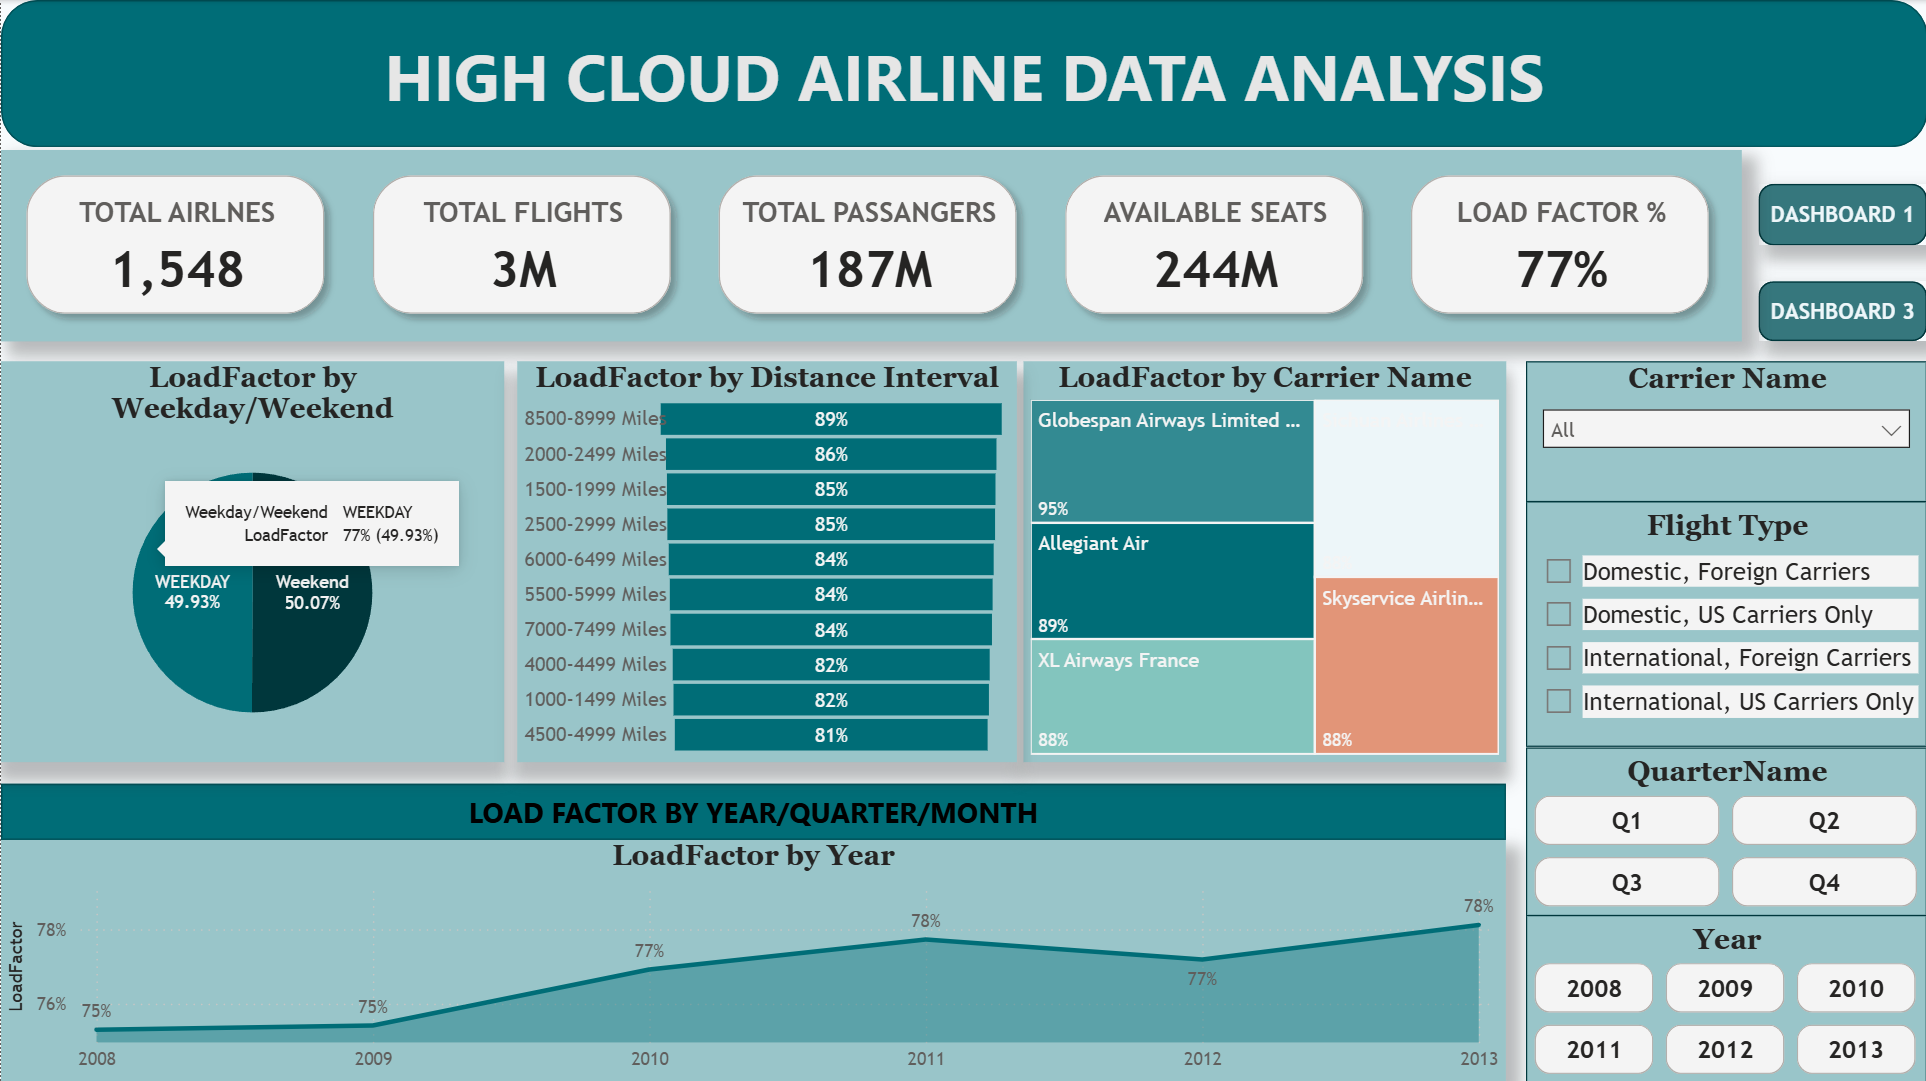

What the dashboard file says about the page in this screenshot:
{"tool":"powerbi","page":{"name":"DASHBOARD 2","canvas":[1280,720],"ordinal":1},"visuals":[{"type":"actionButton","box":[1168.1,121.9,112,41.1],"z":0},{"type":"actionButton","box":[1168.1,186.6,112,39.8],"z":1000},{"type":"shape","box":[0,0,1280.3,97.8],"z":2000},{"type":"cardVisual","title":"TOTAL AIRLINE","fields":{"Data":["CountNonNull(Airlines.Airline ID)","MainData_Final.TotalFlights","MainData_Final.TotalTransportedPassengers","MainData_Final.TotalAvailableSeats","MainData_Final.LoadFactor"]},"box":[0,99.5,1156.9,126.9],"z":3000},{"type":"areaChart","fields":{"Category":["DateTable.Year","DateTable.QuarterName","DateTable.MonthFullName"],"Y":["MainData_Final.LoadFactor"]},"box":[0,558.5,1000.1,161.7],"z":4000},{"type":"shape","box":[0,521.2,1000.1,37.3],"z":5000},{"type":"treemap","fields":{"Group":["MainData_Final.Carrier Name"],"Values":["MainData_Final.LoadFactor"]},"box":[679.2,240.1,320.9,266.2],"z":6000},{"type":"pieChart","fields":{"Category":["DateTable.Weekend"],"Y":["MainData_Final.LoadFactor"]},"box":[0,240.1,334.6,266.2],"z":7000},{"type":"funnel","fields":{"Category":["Distance Groups.Distance Interval"],"Y":["MainData_Final.LoadFactor"]},"box":[343.3,240.1,332.1,266.2],"z":8000},{"type":"advancedSlicerVisual","title":"Year","fields":{"Values":["DateTable.Year"]},"box":[1013.8,608,266.2,112],"z":9000},{"type":"slicer","title":"Flight Type ","fields":{"Values":["Flight Types.Flight Type"]},"box":[1013.8,333.4,266.2,163],"z":10000},{"type":"slicer","title":"Carrier Name","fields":{"Values":["MainData_Final.Carrier Name"]},"box":[1013.8,240.1,266.2,93.3],"z":11000},{"type":"advancedSlicerVisual","fields":{"Values":["DateTable.QuarterName"]},"box":[1013.8,496.3,266.2,112],"z":12000}]}

Visuals, with their boxes in screenshot pixels (x1, y1, x2, y2), scaled from the page's 1280x720 canvas onto the 1926x1081 screenshot:
actionButton: BBox(1758, 183, 1925, 245)
actionButton: BBox(1758, 280, 1925, 340)
shape: BBox(0, 0, 1925, 147)
"TOTAL AIRLINE" cardVisual: BBox(0, 149, 1741, 340)
areaChart - DateTable.Year x DateTable.QuarterName: BBox(0, 839, 1505, 1080)
shape: BBox(0, 783, 1505, 839)
treemap - MainData_Final.Carrier Name x MainData_Final.LoadFactor: BBox(1022, 360, 1505, 760)
pieChart - DateTable.Weekend x MainData_Final.LoadFactor: BBox(0, 360, 503, 760)
funnel - Distance Groups.Distance Interval x MainData_Final.LoadFactor: BBox(517, 360, 1016, 760)
"Year" advancedSlicerVisual: BBox(1525, 913, 1925, 1080)
"Flight Type " slicer: BBox(1525, 501, 1925, 745)
"Carrier Name" slicer: BBox(1525, 360, 1925, 501)
advancedSlicerVisual - DateTable.QuarterName: BBox(1525, 745, 1925, 913)
